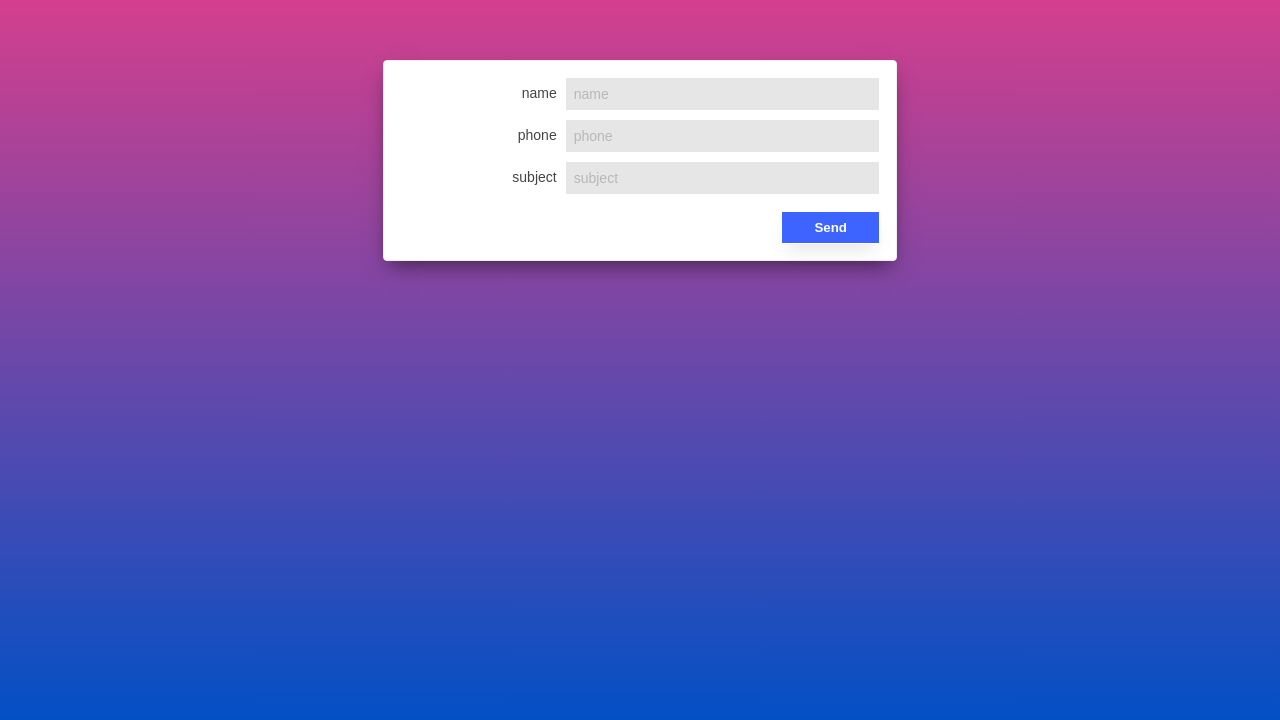
<App /> › validates the name Field
Type "Invalid because UPPERCASE" into the field labelled "name". click: (722, 94)
box: [565,77,880,111]
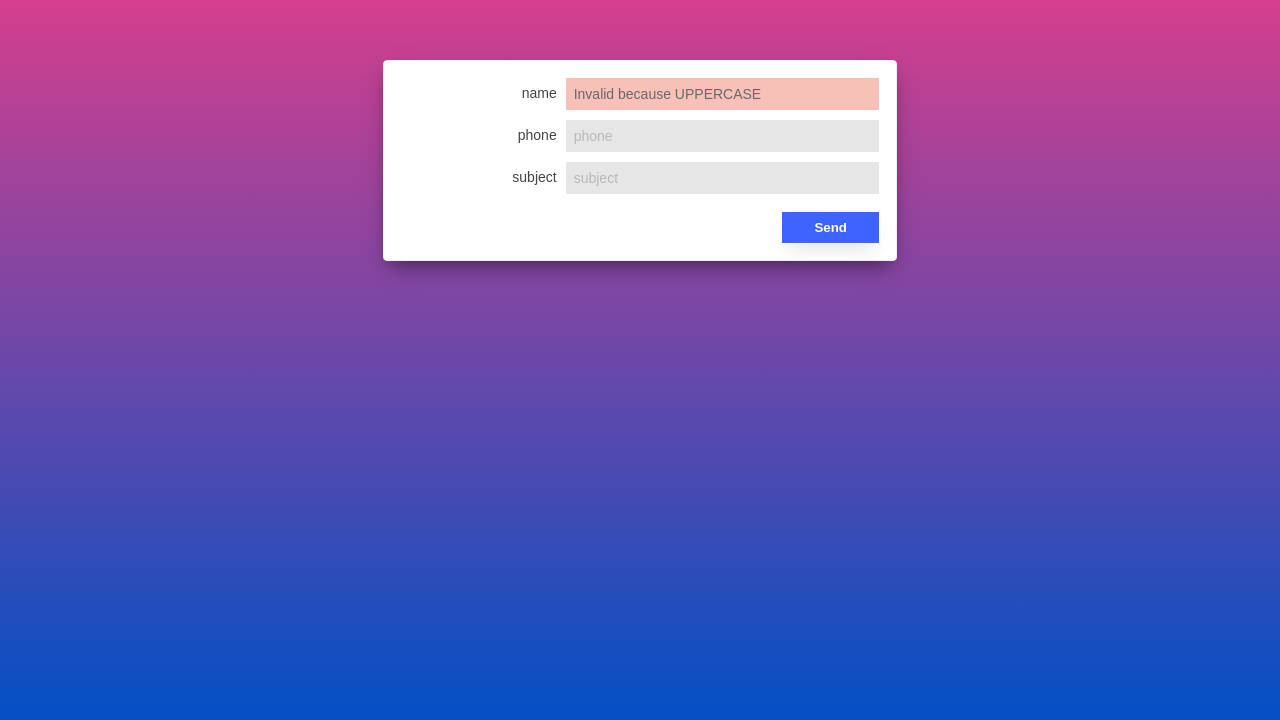
Click the button "Send". click: (831, 228)
box: [781,211,880,244]
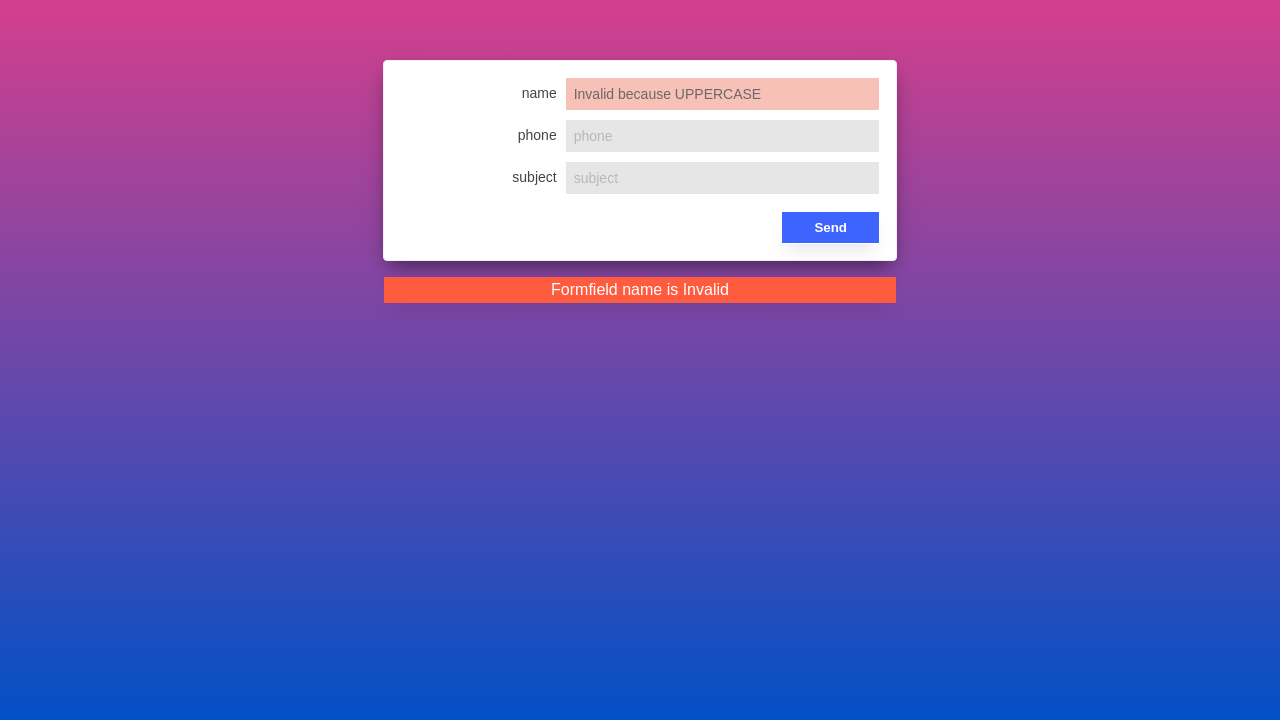
Expected: the text "Formfield name is Invalid" is shown, [384,277,896,303]
